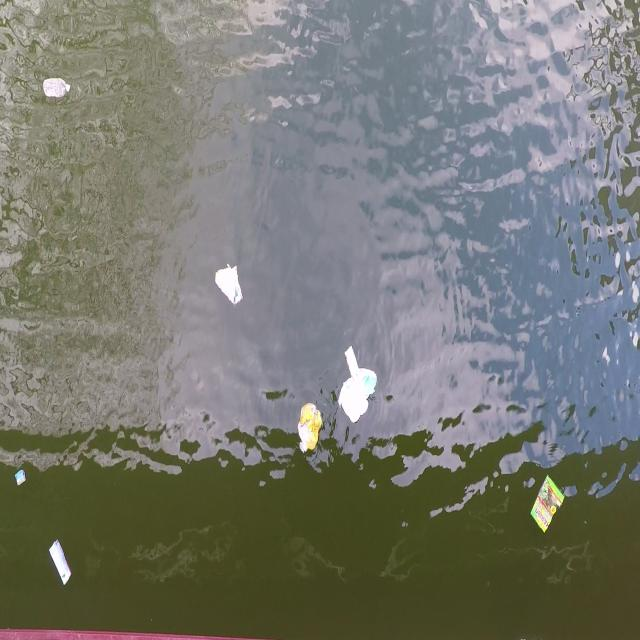Autre plastique: (524, 469, 569, 540)
Bouteille plastique: (37, 70, 74, 108)
Sac plastique: (336, 366, 377, 426), (296, 395, 325, 461), (210, 259, 247, 307)
